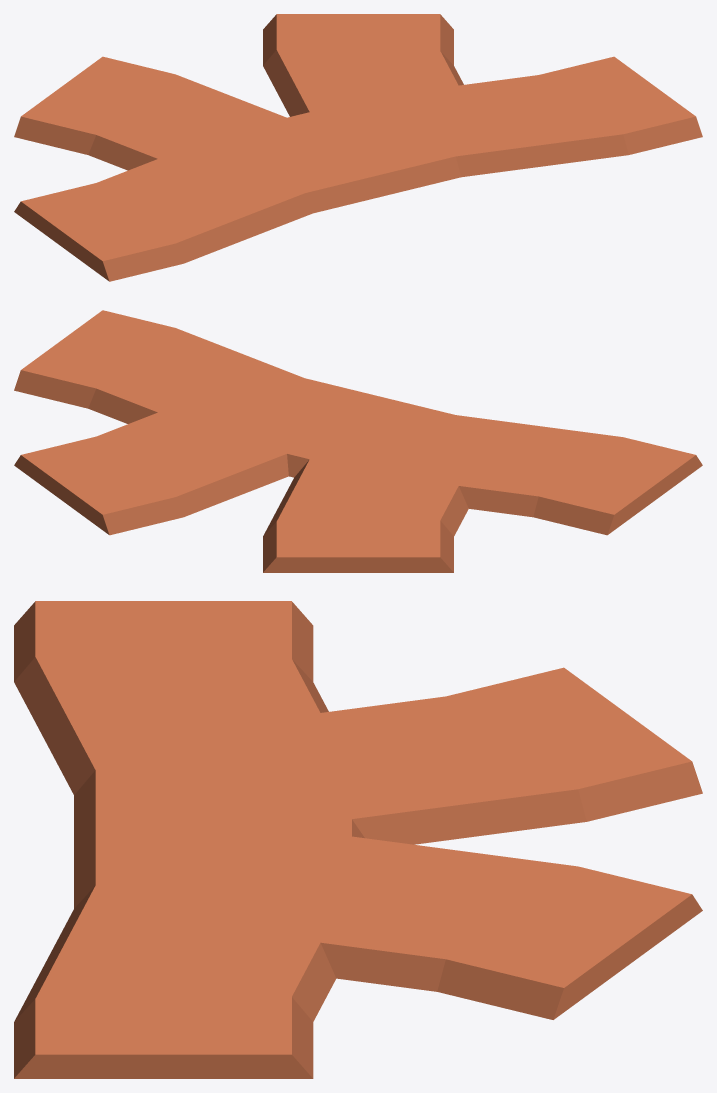
The model's file is path_intersectionH.fbx.
3 views of the same model, one above another, from view 1: azimuth 30°, elevation 25°; view 2: azimuth 150°, elevation 25°; view 3: azimuth 270°, elevation 25° (orthographic). The views are drawn at different scales.
Parts seen in each view (by area): view 1: path_intersectionH; view 2: path_intersectionH; view 3: path_intersectionH.
Boxes of the visible parts, bbox=[...] form: path_intersectionH: bbox=[14, 14, 702, 281]; path_intersectionH: bbox=[14, 310, 702, 572]; path_intersectionH: bbox=[14, 601, 702, 1078].
Size of the model in its own units: 10 by 0.25 by 6.42.
